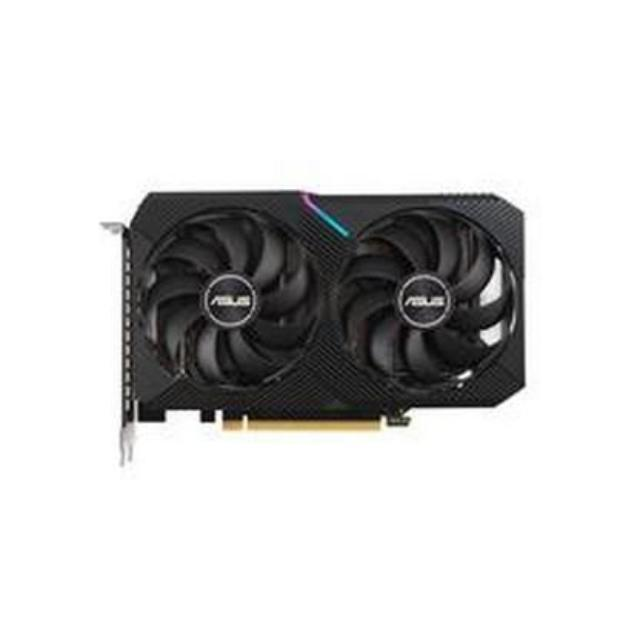GPU: (106, 174, 531, 440)
